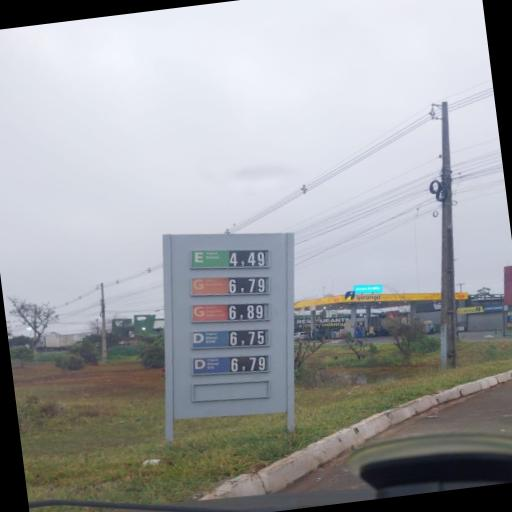S10: (193, 357, 231, 374)
S500: (192, 330, 230, 347)
placa: (171, 235, 287, 381)
preco: (230, 356, 267, 372), (230, 330, 265, 346)
